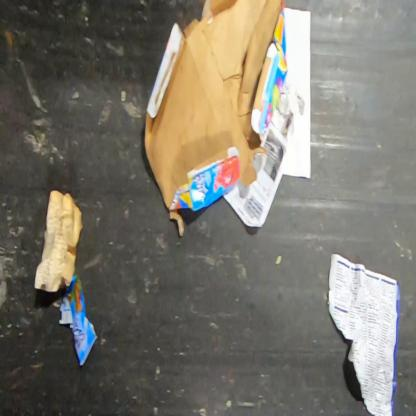cardboard: (142, 0, 288, 238)
